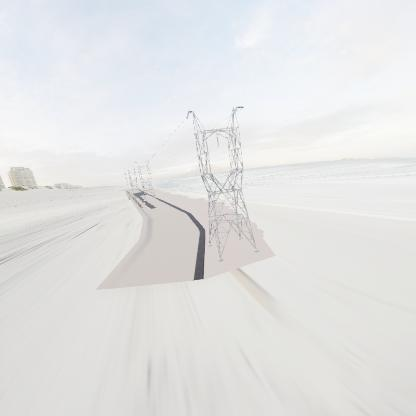tower: (183, 101, 263, 265)
